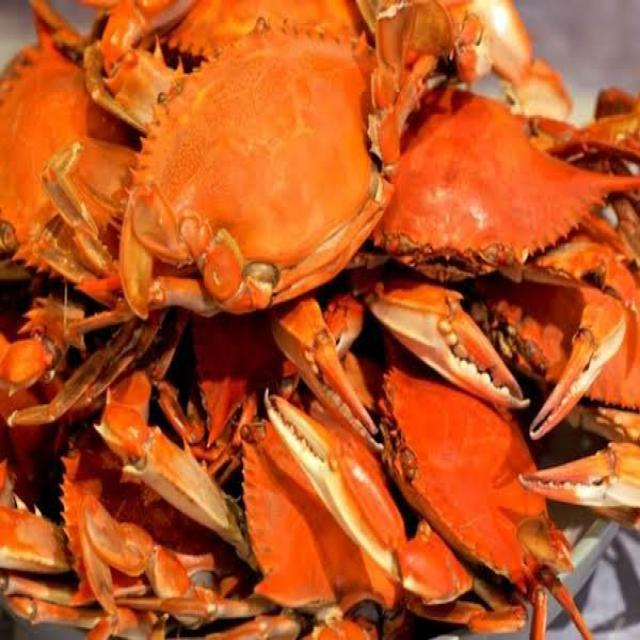crab: (124, 84, 423, 376)
